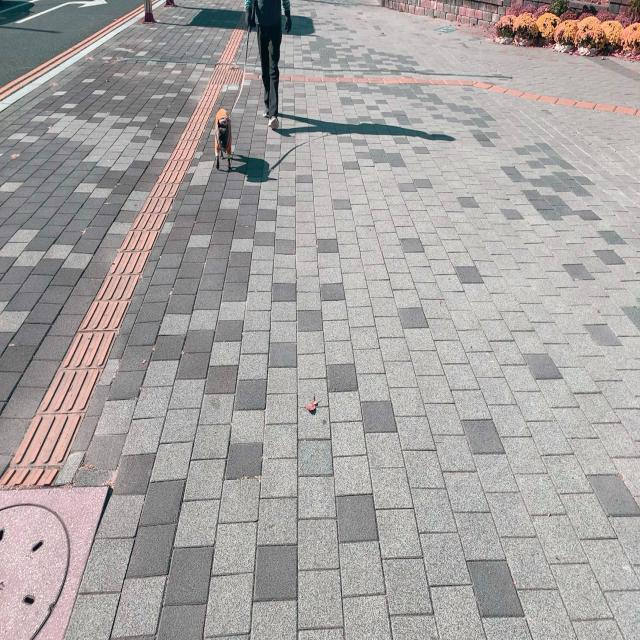Leashed_Dog: (215, 9, 269, 172)
